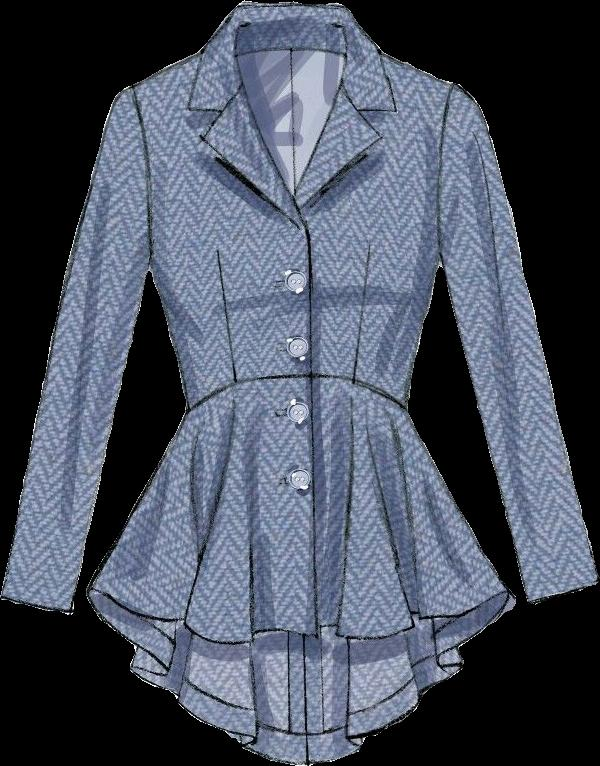Bodice: (86, 2, 515, 764)
Hemline: (86, 587, 514, 647)
Neckline: (230, 3, 353, 218), (180, 372, 413, 417)
Sleeve: (438, 84, 598, 602), (0, 85, 149, 614)
Sleeveline: (434, 83, 461, 269), (132, 82, 156, 269)
Waistline: (182, 54, 303, 224), (297, 51, 399, 214)
